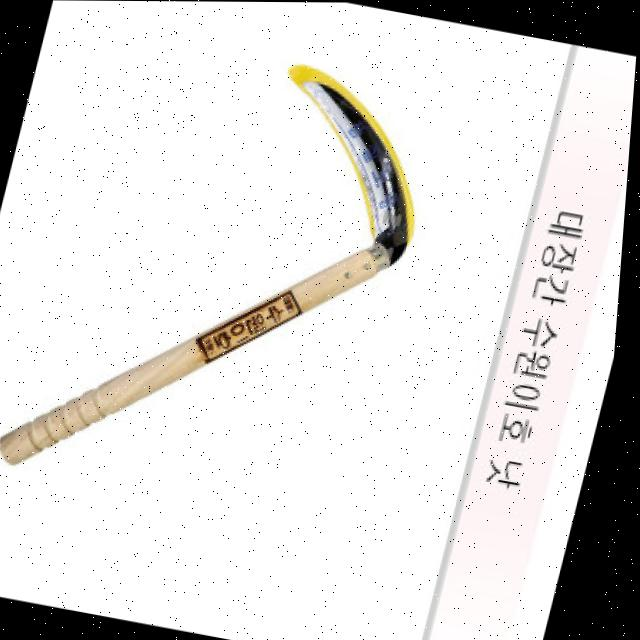sickle: (0, 0, 472, 597)
